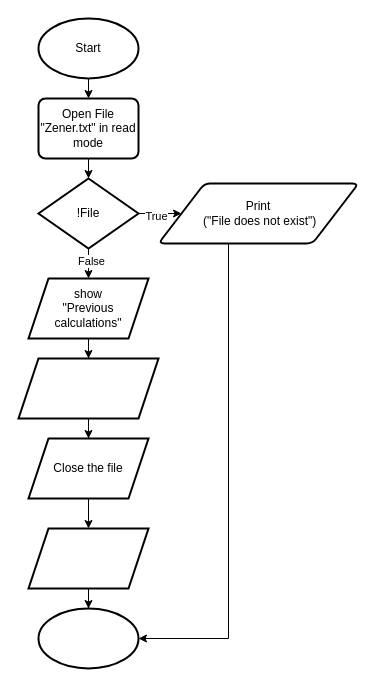
Some shapes in this 376 by 686 pixel diagram are drawn without their labels. Each missing label, with the box of its shape:
Print Footer: (27, 527, 149, 589)
Read and print file contents until (EOF) End of File: (17, 357, 159, 419)
return to main function: (37, 607, 139, 669)
